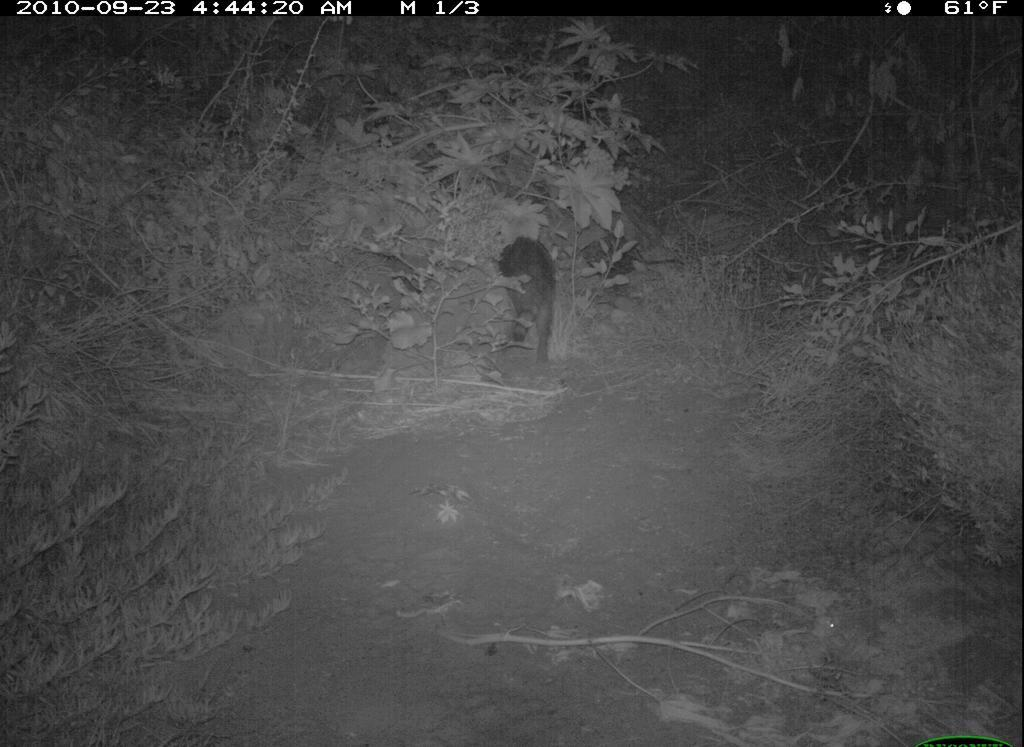raccoon: (500, 225, 577, 378)
